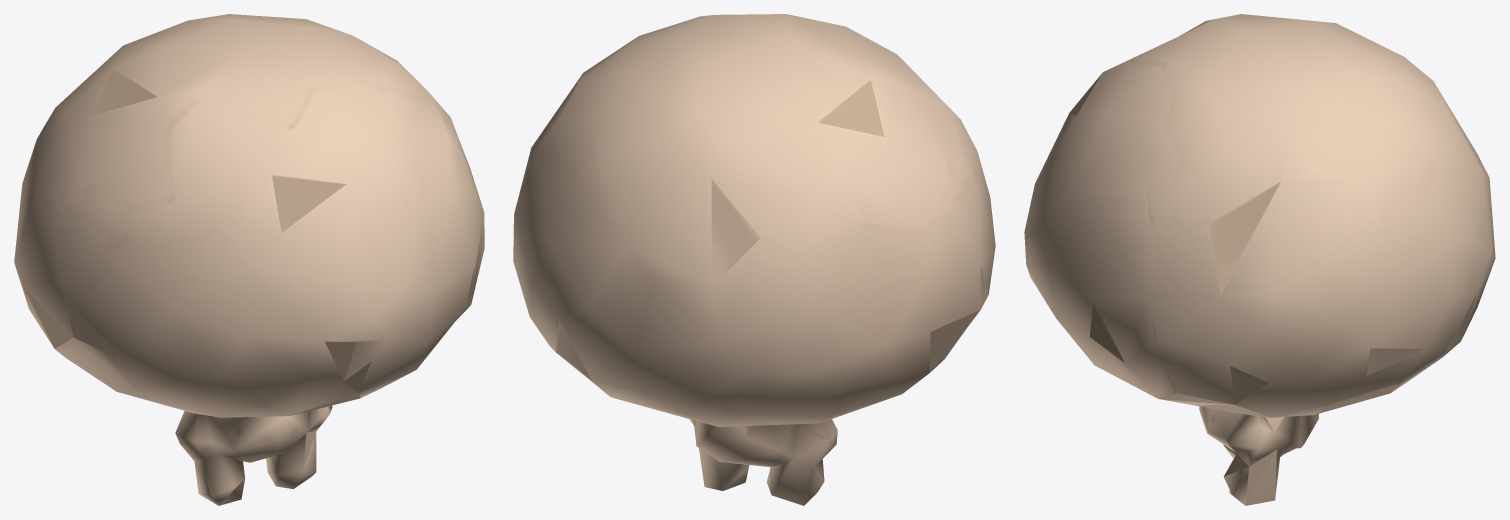
File: Rock.glb
3 views of the same model, side by side, from view 1: azimuth 30°, elevation 25°; view 2: azimuth 150°, elevation 25°; view 3: azimuth 270°, elevation 25° (orthographic). The views are drawn at different scales.
Parts seen in each view (by area): view 1: mesh_node; view 2: mesh_node; view 3: mesh_node.
Boxes of the visible parts, x1,y1,x2,y2 form: mesh_node: (14, 14, 484, 505); mesh_node: (513, 14, 995, 505); mesh_node: (1024, 14, 1495, 505).
Bounding box in the file's own units: 0.0977 × 0.1 × 0.0972.
Materials: 1 (1 with a texture image).
